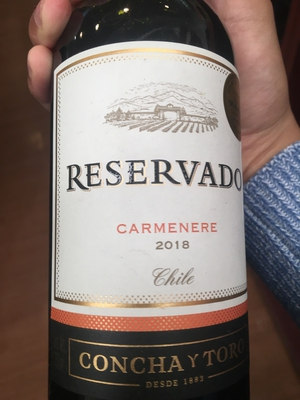reservado carmenere: (47, 14, 251, 400)
